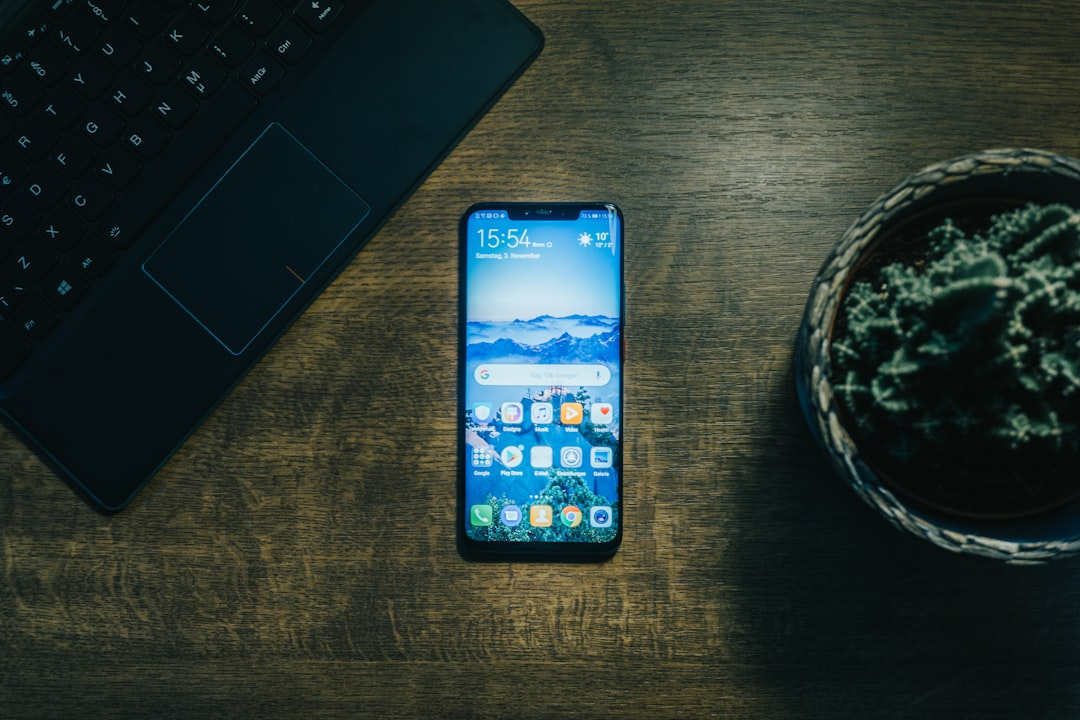phone: (457, 199, 626, 553)
